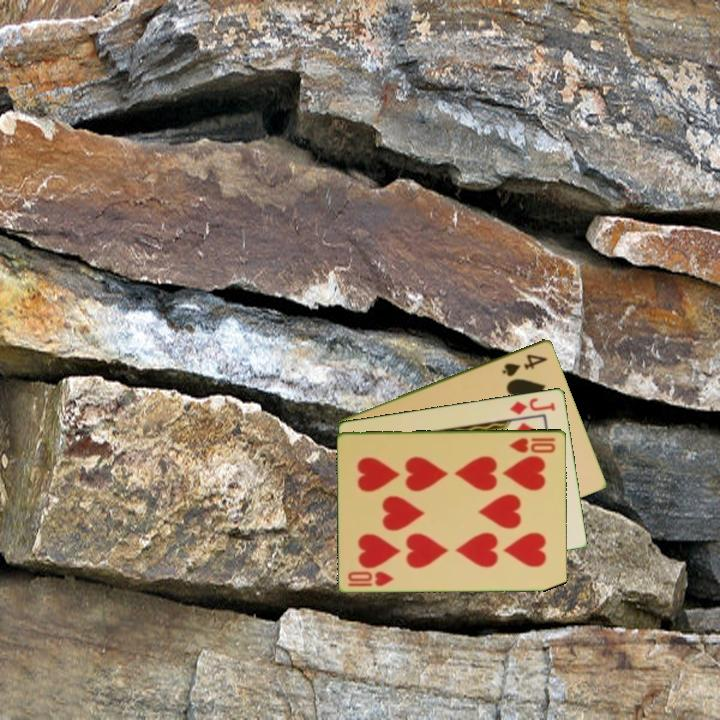10h: (506, 434, 558, 455), (345, 568, 397, 589)
4s: (499, 350, 551, 379)
Jd: (506, 394, 558, 417)
